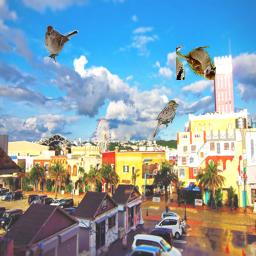Sparrow: (44, 24, 79, 64), (176, 46, 216, 80), (151, 99, 179, 139)
